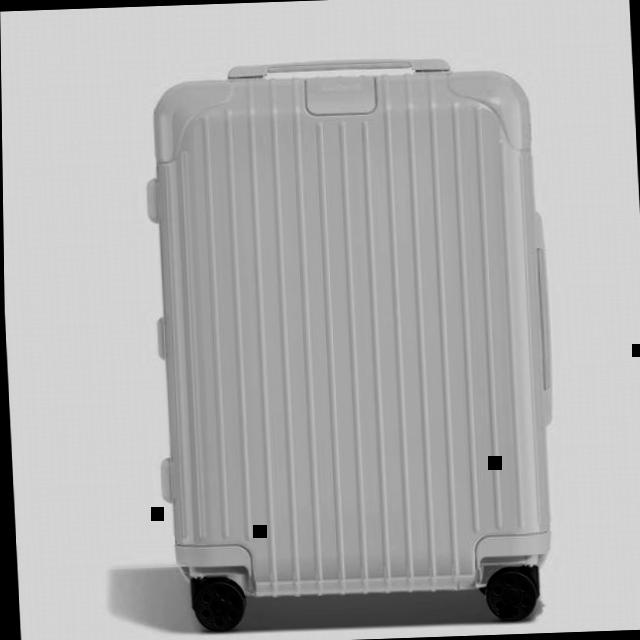luggage: (136, 45, 569, 608)
